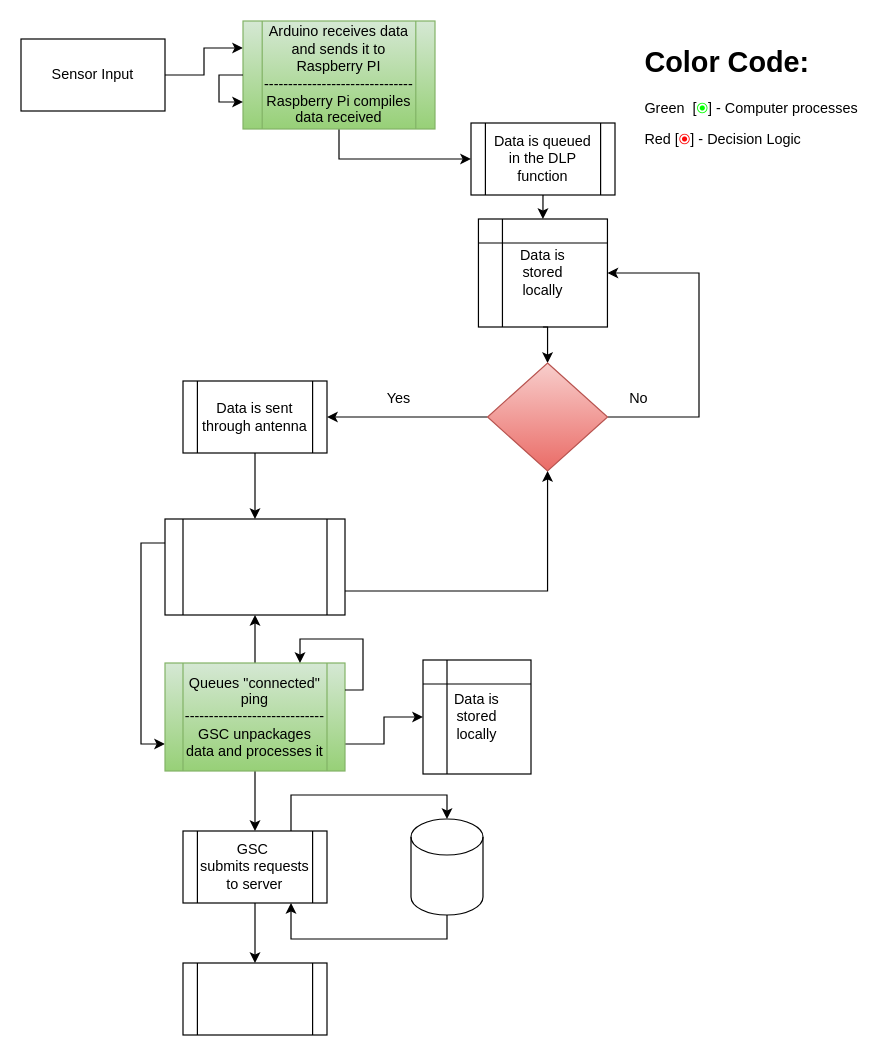
Image size: 888x1056. Some labels were removed from this diagram. Here are the shapes that lost their labels. From the top down, the centre of each, then its label:
point (547, 416): Rover connected?
point (254, 566): GSC antenna receives data ----------------------------- Sends "connected" ping
point (446, 866): Database
point (254, 998): Data is posted to web application
